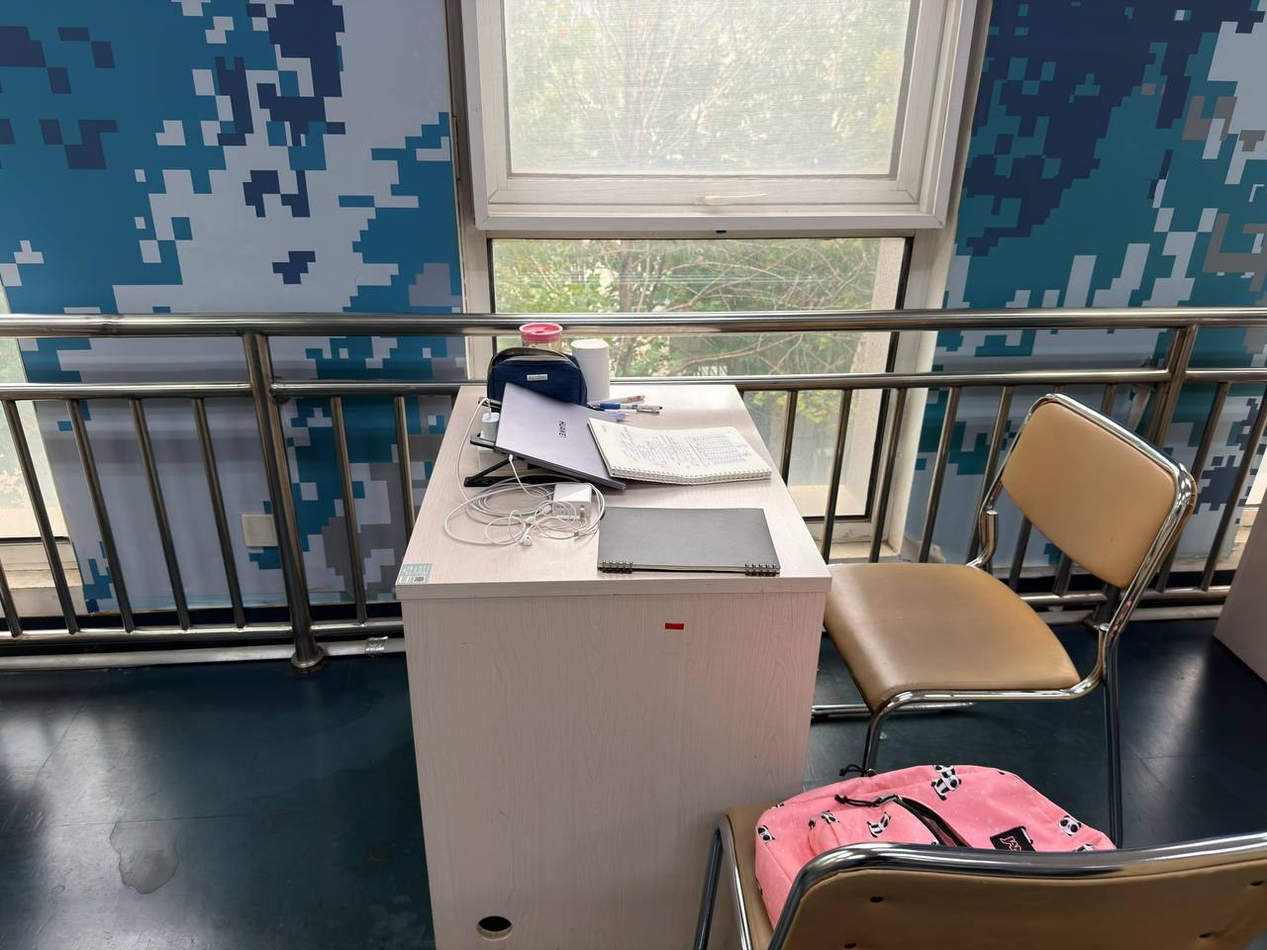cell phone: (553, 482, 593, 520), (553, 482, 592, 502)
laptop: (495, 382, 628, 490), (598, 506, 781, 575)
